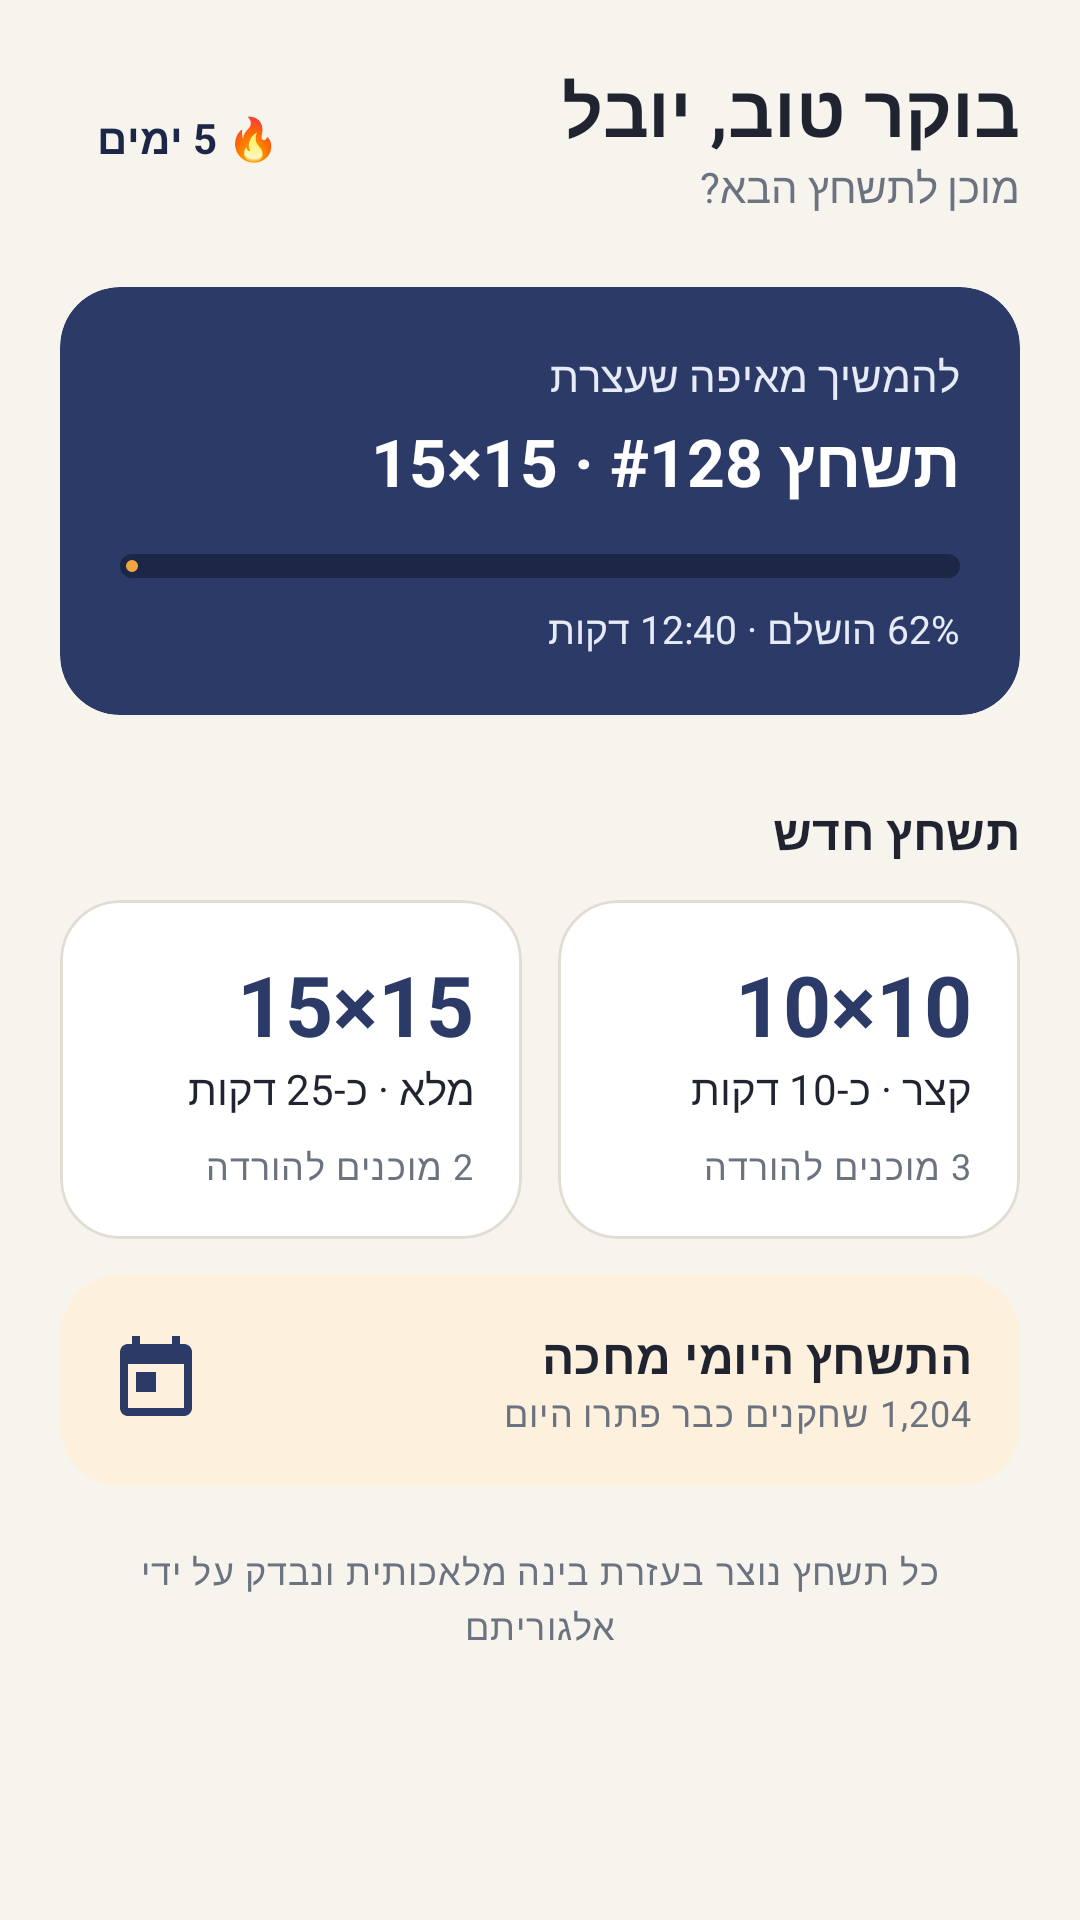

Locate icon controls on the screen. Image size 1080x1920, boxes as Rect(x1, y1, x2, y2).
יומי: Rect(120, 1336, 192, 1416)
